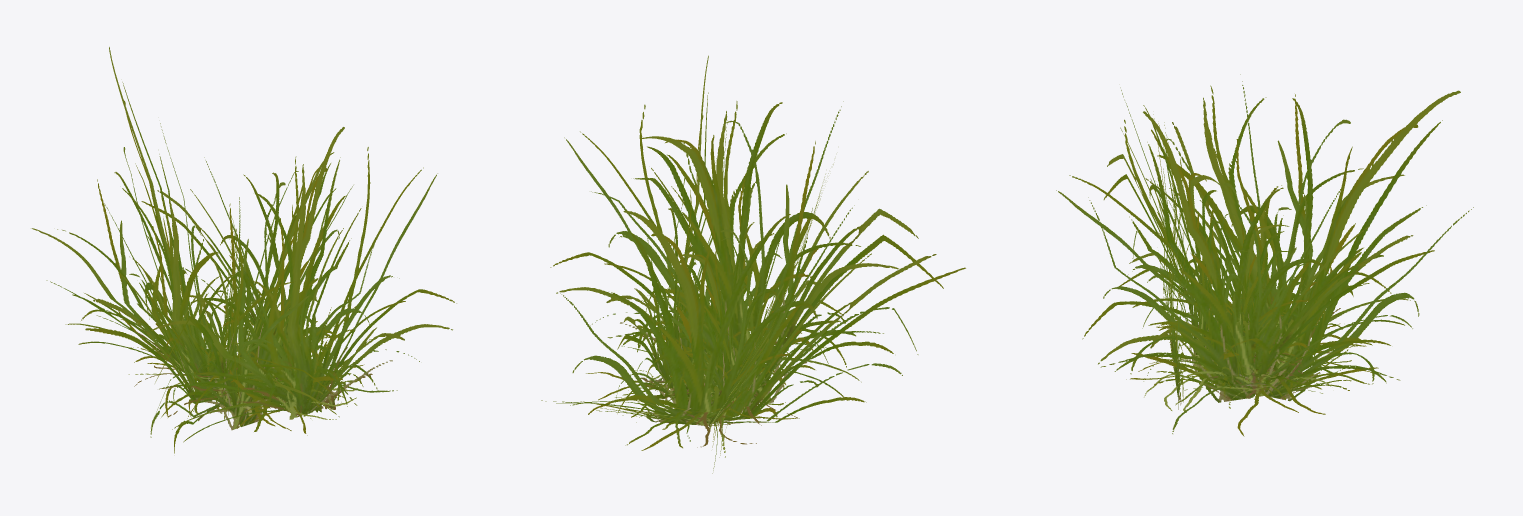
The model's file is grass_fresh.glb.
The picture shows the model from 3 angles, left to right: view 1: azimuth 30°, elevation 25°; view 2: azimuth 150°, elevation 25°; view 3: azimuth 270°, elevation 25°; orthographic projection. The views are drawn at different scales.
Visible parts, largest first — view 1: Grass main fresh_Grass_Mat_0; view 2: Grass main fresh_Grass_Mat_0; view 3: Grass main fresh_Grass_Mat_0.
Part boxes in pixels (x1,y1,x2,y2): Grass main fresh_Grass_Mat_0: [31, 47, 456, 453]; Grass main fresh_Grass_Mat_0: [541, 55, 965, 473]; Grass main fresh_Grass_Mat_0: [1056, 74, 1473, 436].
Size of the model in its own units: 1.27 by 1 by 1.24.
Materials: 1 (1 with a texture image).
